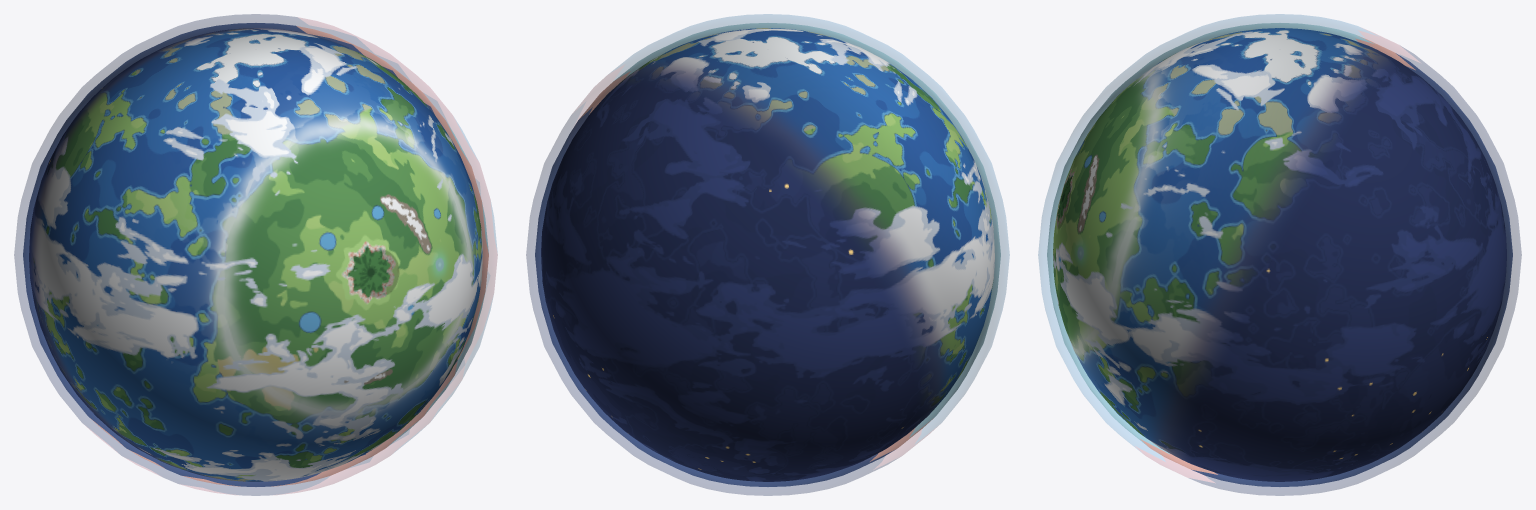
Rendered from elias.glb.
3 renders of one model, left to right at view 1: azimuth 30°, elevation 25°; view 2: azimuth 150°, elevation 25°; view 3: azimuth 270°, elevation 25°, orthographic.
Parts seen in each view (by area): view 1: elias_surface, elias_atmo_out, elias_atmo_in; view 2: elias_surface, elias_atmo_out, elias_atmo_in; view 3: elias_surface, elias_atmo_out, elias_atmo_in.
Part boxes in pixels (x1,y1,x2,y2): elias_surface: (29,28,482,481); elias_atmo_out: (14,14,497,495); elias_atmo_in: (23,23,488,486); elias_surface: (541,28,994,481); elias_atmo_out: (526,14,1009,495); elias_atmo_in: (535,23,1000,486); elias_surface: (1053,28,1506,481); elias_atmo_out: (1038,14,1521,495); elias_atmo_in: (1047,23,1512,486).
Size of the model in its own units: 213 by 213 by 213.
Materials: 3 (1 with a texture image).
